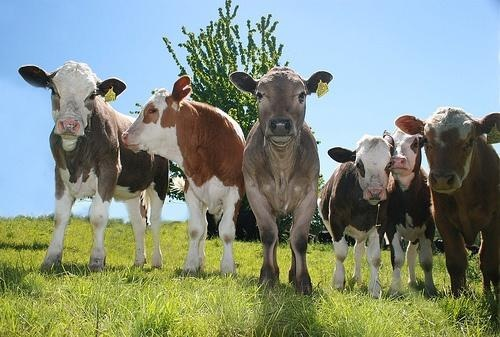cow: (17, 62, 171, 272), (122, 75, 248, 277), (229, 66, 333, 295), (394, 106, 500, 300), (317, 135, 392, 300), (383, 128, 438, 297)
